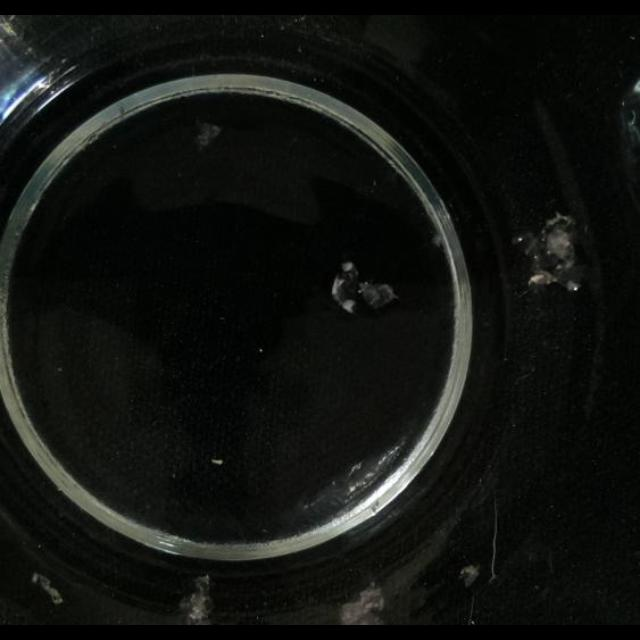Fibre: (519, 212, 585, 292), (333, 261, 397, 315), (340, 584, 386, 624), (182, 574, 216, 624), (30, 573, 61, 605), (195, 122, 221, 148), (459, 564, 481, 588), (432, 232, 444, 248)
microbeads: (348, 459, 366, 478), (210, 456, 223, 464)
